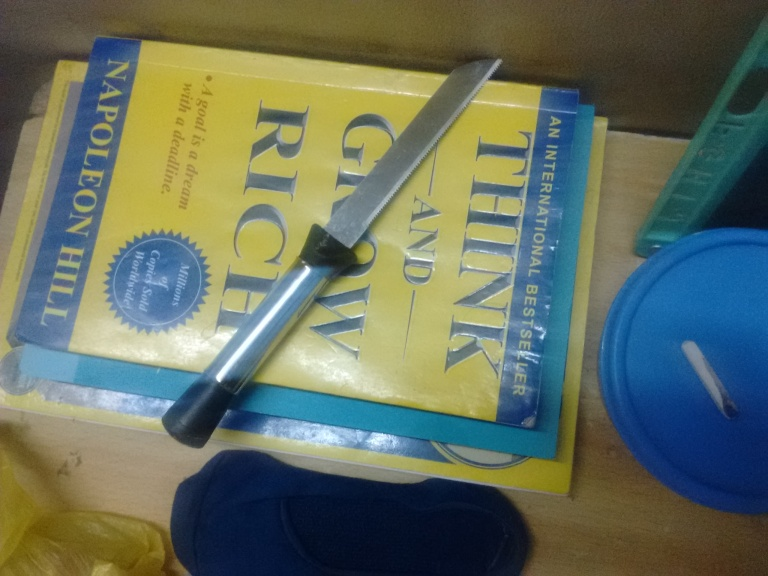knife: (159, 58, 501, 452)
